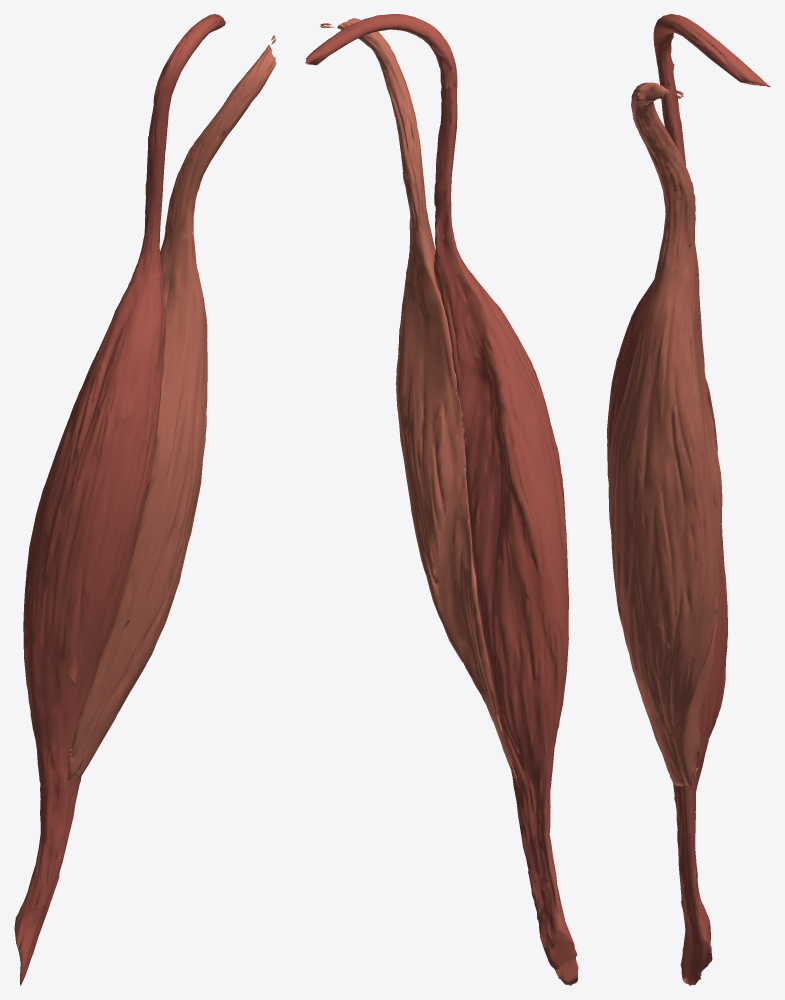
The model's file is muscles.glb.
3 renders of one model, left to right at view 1: azimuth 30°, elevation 25°; view 2: azimuth 150°, elevation 25°; view 3: azimuth 270°, elevation 25°, orthographic. The views are drawn at different scales.
Parts seen in each view (by area): view 1: FMA37686, FMA37684; view 2: FMA37686, FMA37684; view 3: FMA37684, FMA37686.
Boxes of the visible parts, bbox=[...] form: FMA37686: bbox=[14, 14, 225, 985]; FMA37684: bbox=[67, 35, 276, 781]; FMA37686: bbox=[305, 14, 578, 985]; FMA37684: bbox=[320, 18, 517, 782]; FMA37684: bbox=[608, 82, 722, 793]; FMA37686: bbox=[607, 14, 770, 985].
Bounding box in the file's own units: 0.9619 × 3.3 × 0.4597.
